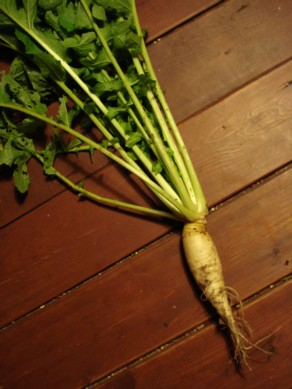turnip: (1, 0, 272, 372)
